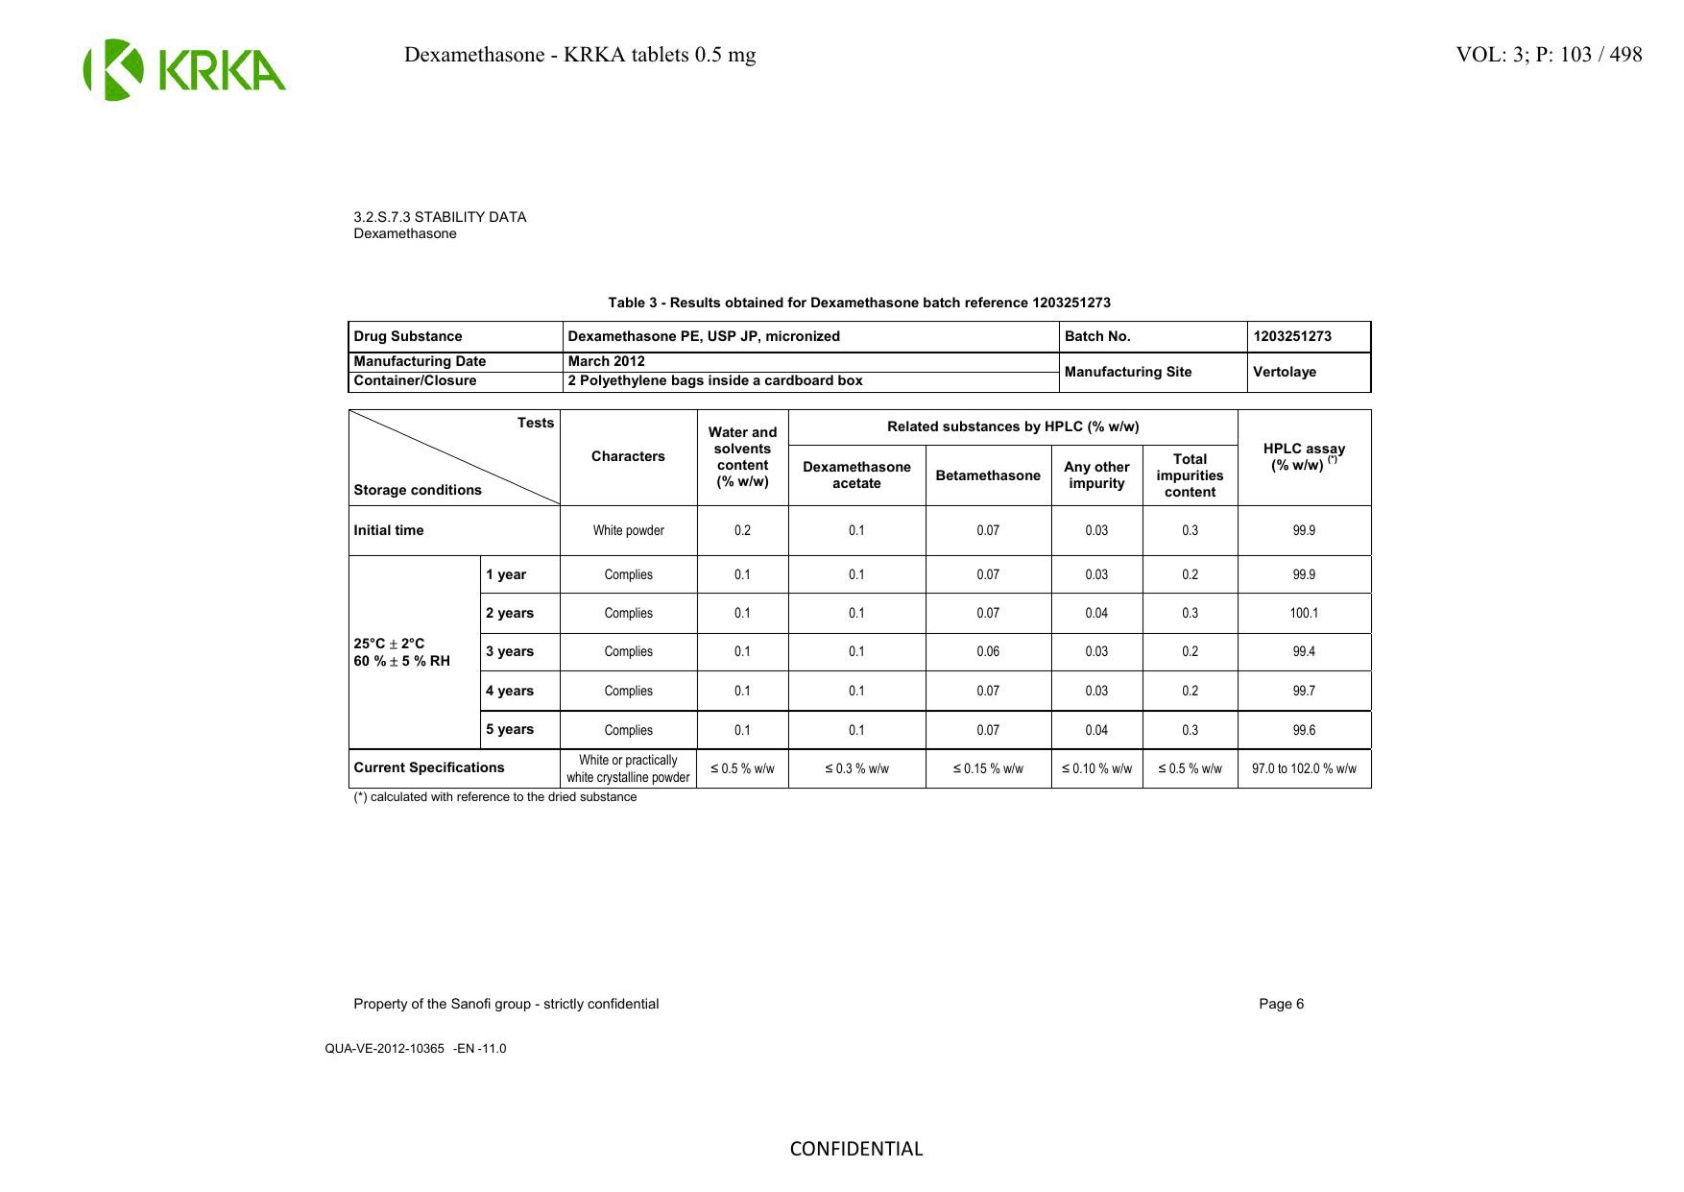merged_cells: (348, 408, 1373, 790), (346, 319, 1372, 393)
